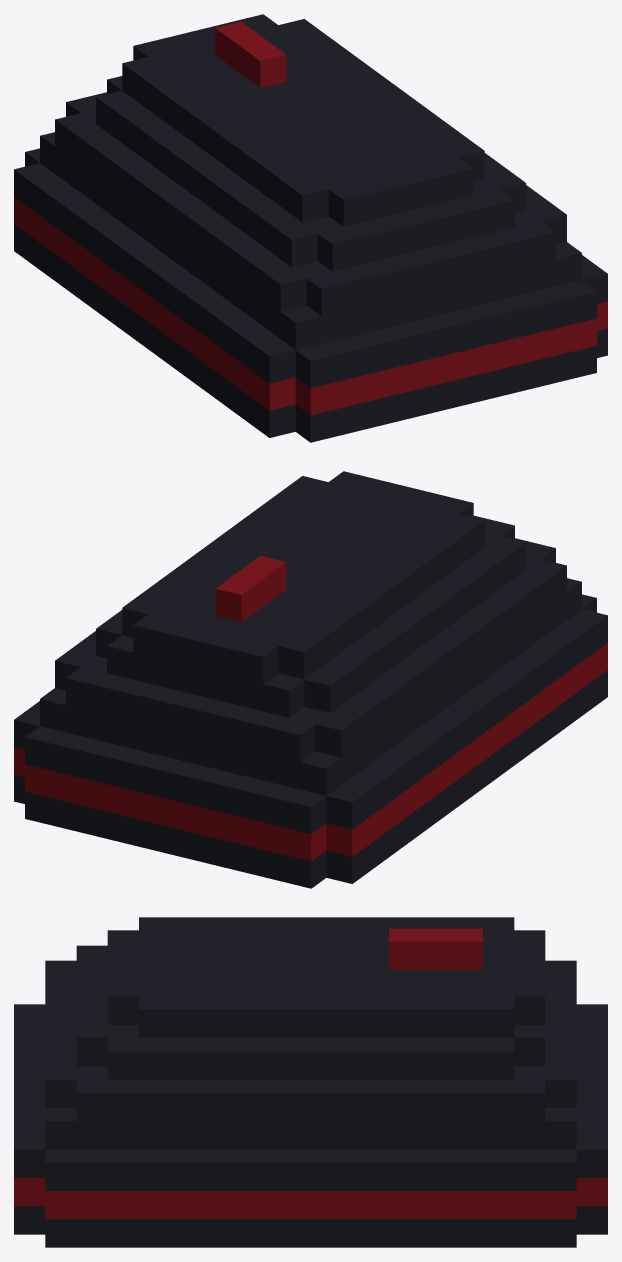
The model's file is mouse.glb.
3 views of the same model, one above another, from view 1: azimuth 30°, elevation 25°; view 2: azimuth 150°, elevation 25°; view 3: azimuth 270°, elevation 25° (orthographic). The views are drawn at different scales.
Visible parts, largest first — view 1: model; view 2: model; view 3: model.
Boxes of the visible parts, bbox=[...] form: model: bbox=[14, 14, 607, 442]; model: bbox=[14, 471, 607, 888]; model: bbox=[14, 917, 607, 1247].
Size of the model in its own units: 1.3 by 0.8 by 1.9.
